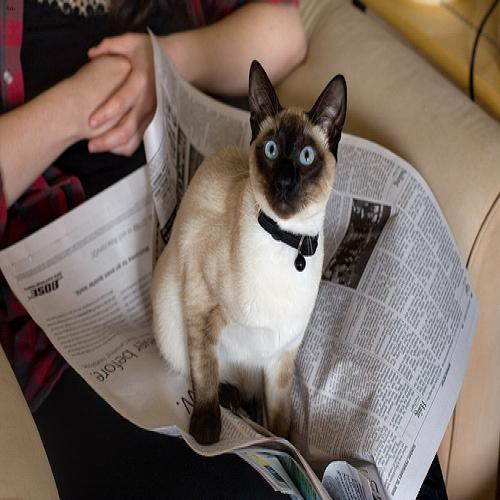siamese: (238, 46, 360, 235)
